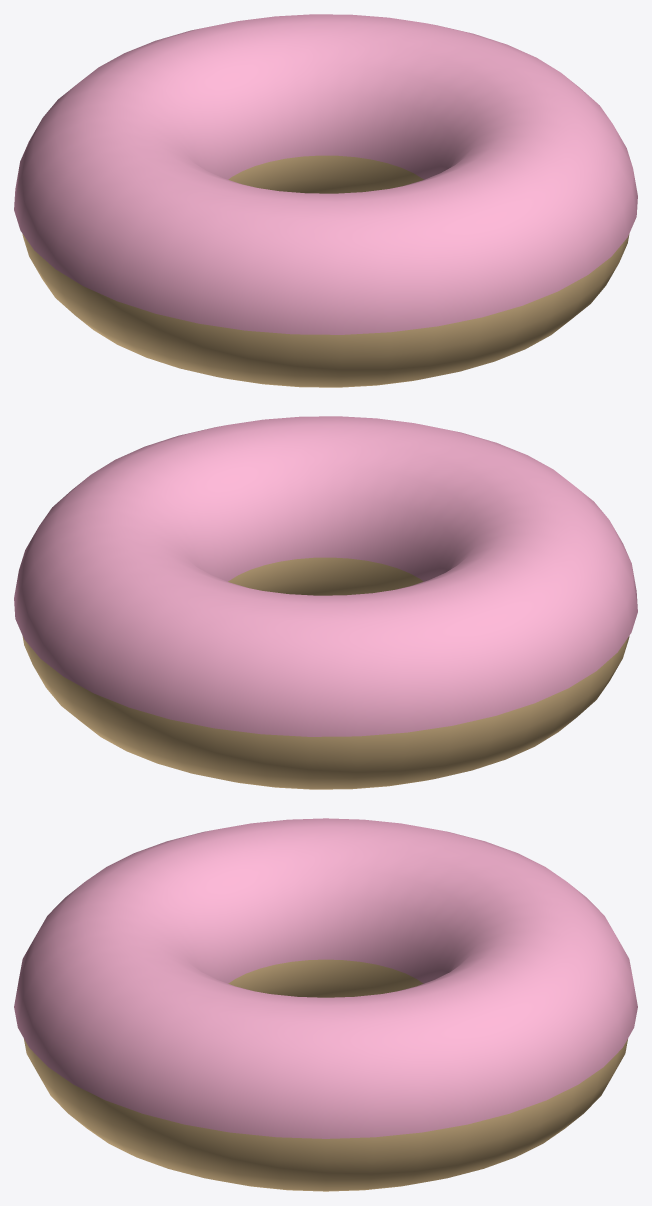
Rendered from donut.glb.
3 renders of one model, top to bottom at view 1: azimuth 30°, elevation 25°; view 2: azimuth 150°, elevation 25°; view 3: azimuth 270°, elevation 25°, orthographic.
Visible parts, largest first — view 1: donut; view 2: donut; view 3: donut.
Boxes of the visible parts, x1=… form: donut: x1=14, y1=14, x2=637, y2=387; donut: x1=14, y1=416, x2=637, y2=789; donut: x1=14, y1=818, x2=637, y2=1191.
Bounding box in the file's own units: 2.94 × 0.92 × 2.94.
